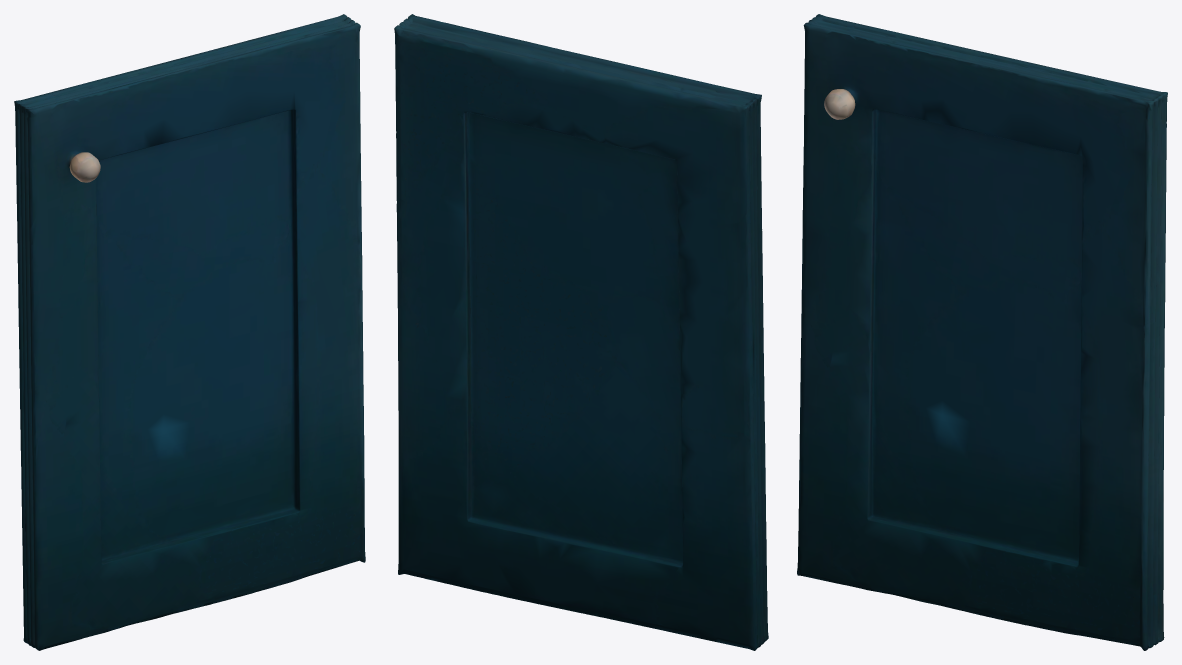
The picture shows the model from 3 angles, left to right: view 1: azimuth 30°, elevation 25°; view 2: azimuth 150°, elevation 25°; view 3: azimuth 330°, elevation 25°; orthographic projection. The views are drawn at different scales.
Visible parts, largest first — view 1: material; view 2: material; view 3: material.
Boxes of the visible parts, <box> form: material: <box>14,14,365,650</box>; material: <box>394,14,768,650</box>; material: <box>797,14,1167,650</box>.
Bounding box in the file's own units: 0.6605 × 1 × 0.1353.
Materials: 1 (1 with a texture image).
